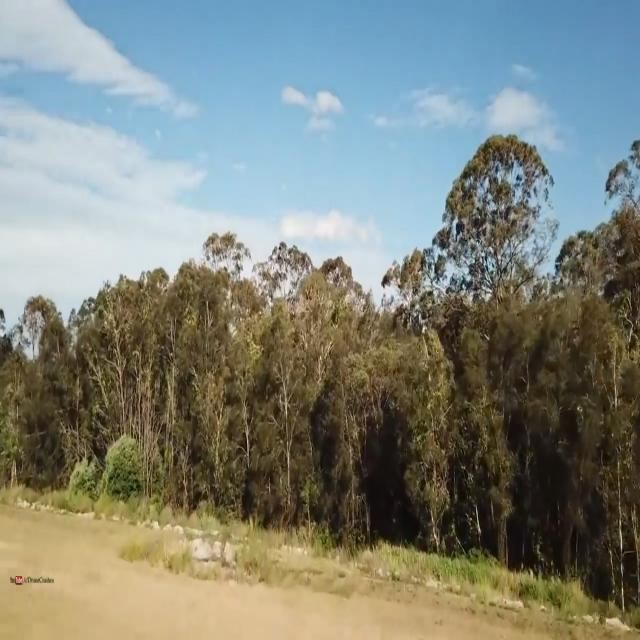Tree: (422, 124, 554, 566), (555, 138, 640, 611), (154, 227, 255, 529), (260, 240, 348, 549), (360, 251, 416, 551), (85, 269, 146, 518), (8, 293, 68, 498)
